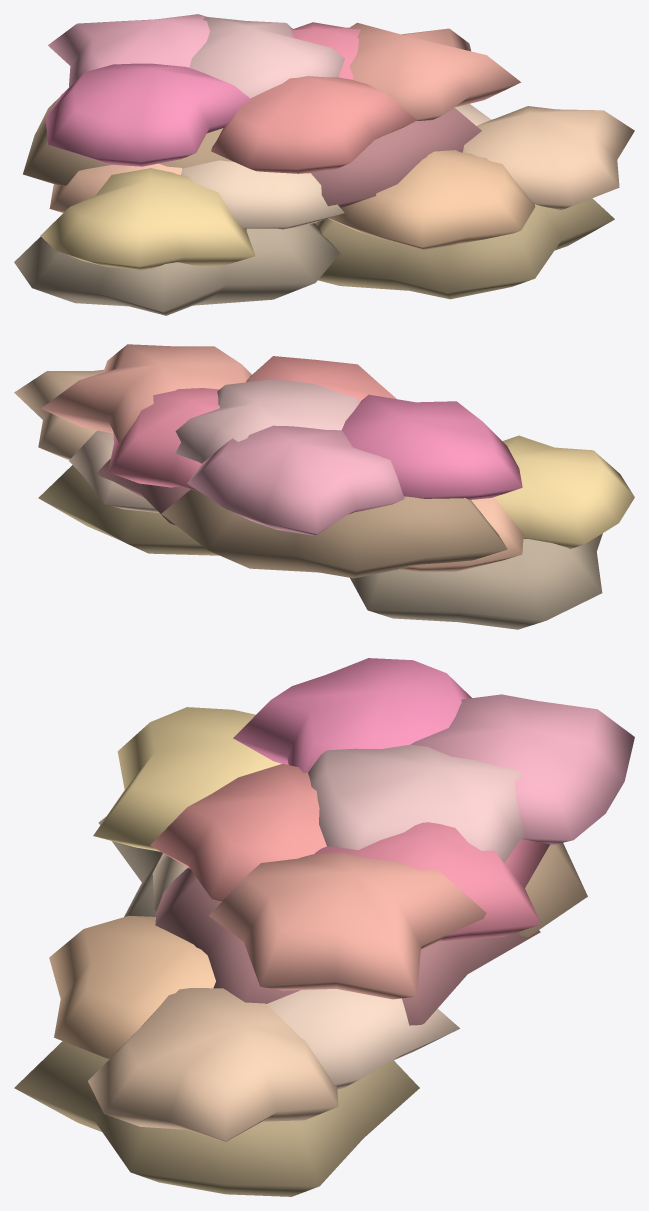
The model's file is WC_RIVER_Shrub_Riverside_A.glb.
3 renders of one model, top to bottom at view 1: azimuth 30°, elevation 25°; view 2: azimuth 150°, elevation 25°; view 3: azimuth 270°, elevation 25°, orthographic. The views are drawn at different scales.
Parts seen in each view (by area): view 1: WC_RIVER_Shrub_Riverside_A_RenderMesh; view 2: WC_RIVER_Shrub_Riverside_A_RenderMesh; view 3: WC_RIVER_Shrub_Riverside_A_RenderMesh.
Boxes of the visible parts, box(x1,y1,x2,y2) form: WC_RIVER_Shrub_Riverside_A_RenderMesh: box(14, 14, 634, 315); WC_RIVER_Shrub_Riverside_A_RenderMesh: box(14, 344, 634, 629); WC_RIVER_Shrub_Riverside_A_RenderMesh: box(14, 658, 634, 1196).
Bounding box in the file's own units: 1.49 × 0.5652 × 1.01.
